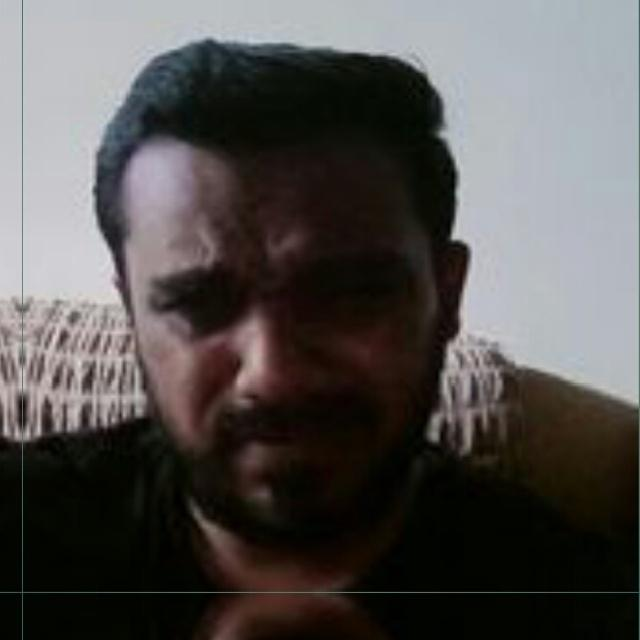Sad: (110, 120, 425, 536)
